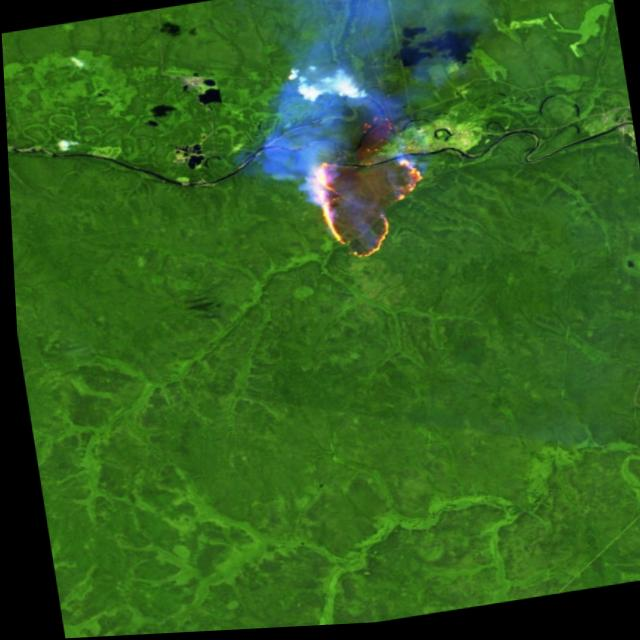fire: (294, 109, 441, 273)
